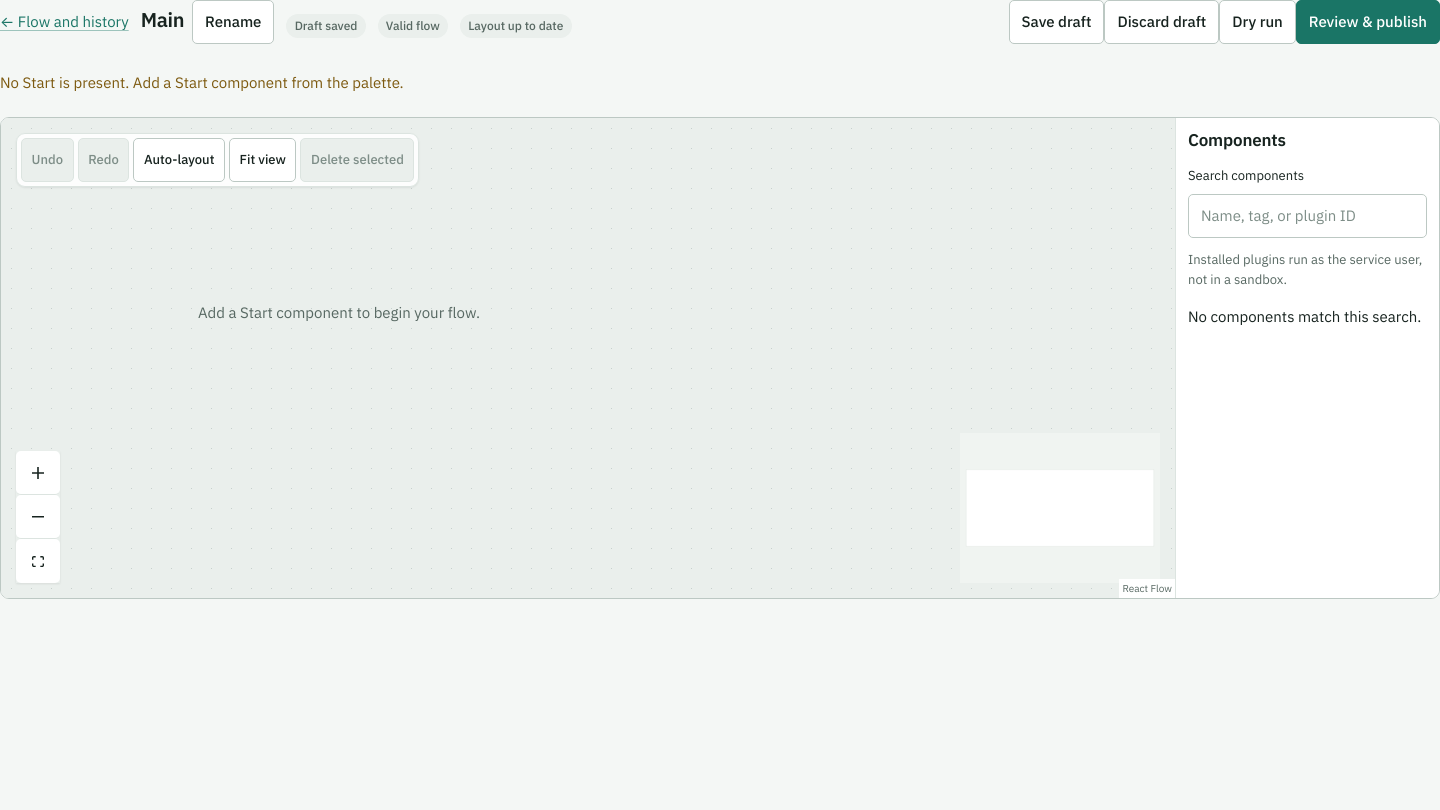
Scenario: FlowEditor publish › shows returned warnings as a notice beside the published message
Click the button "Review & publish" at (1368, 22), box [1296, 0, 1439, 44]
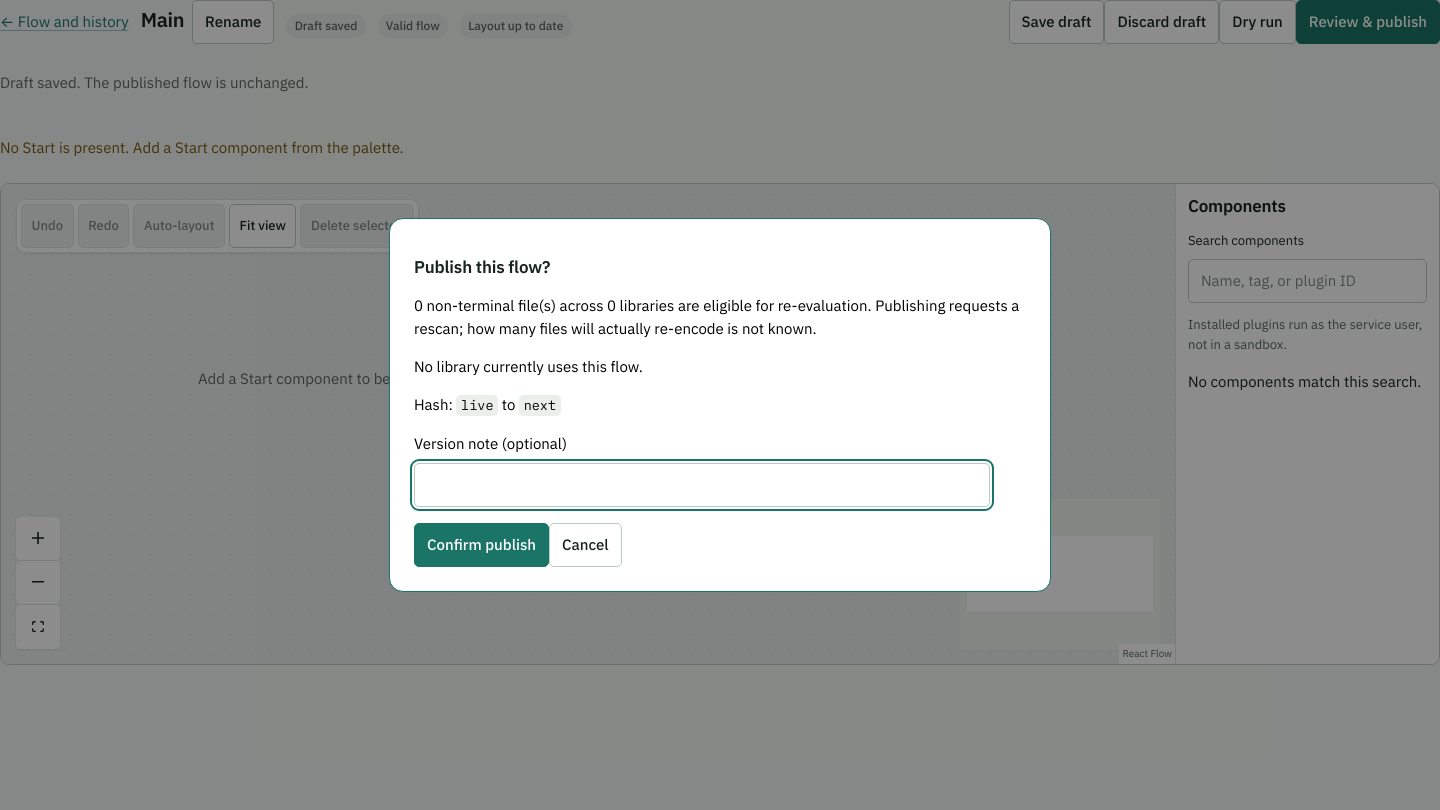
Check: the text "Hash: live to next" is shown, box [414, 395, 561, 416]
Click the button "Confirm publish" at (482, 545), box [414, 523, 549, 567]
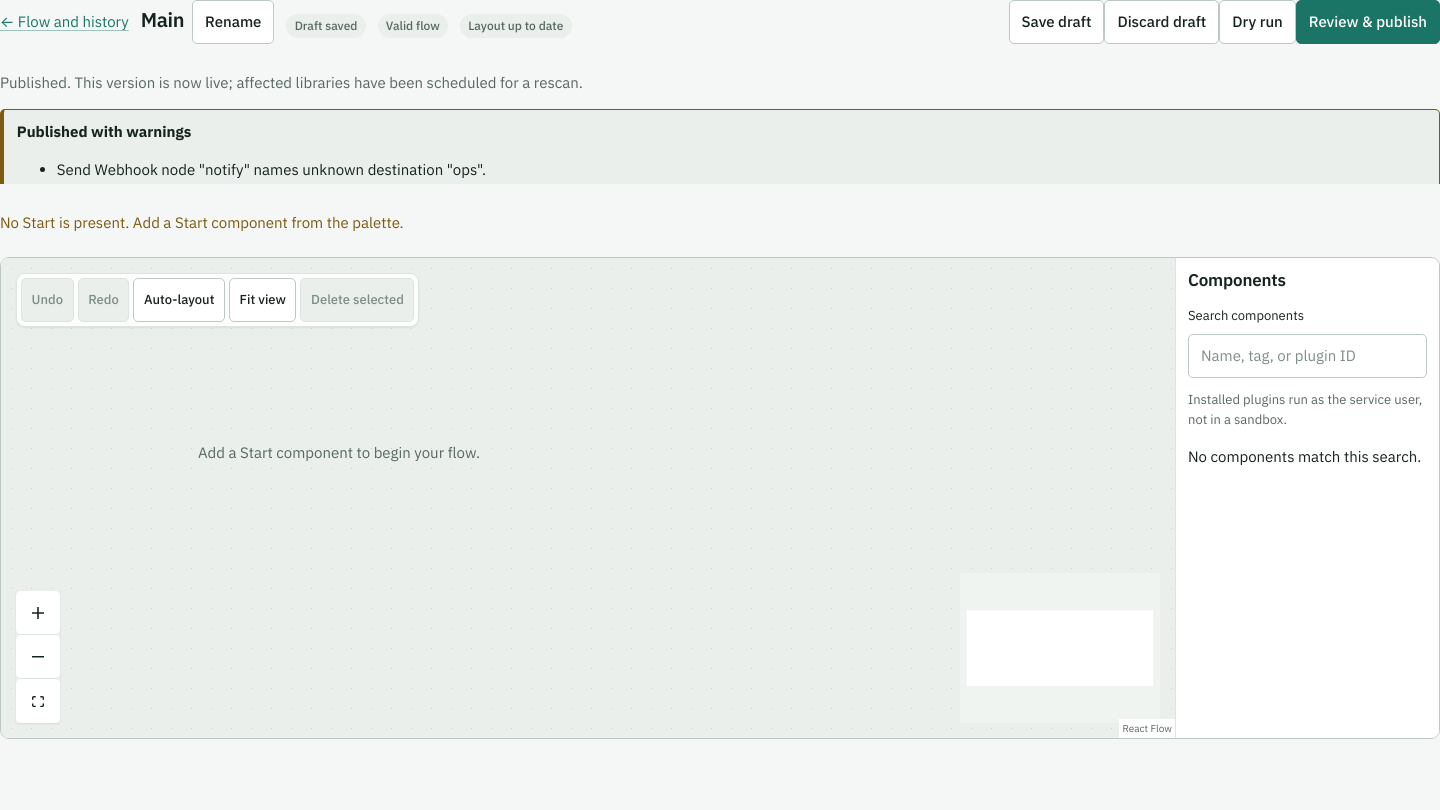
Check: the text "Published. This version is now live" is shown, box [0, 73, 583, 92]
Check: the element that starts with "Published with warnings" shows "unknown destination \"ops\"", box [57, 160, 486, 179]
